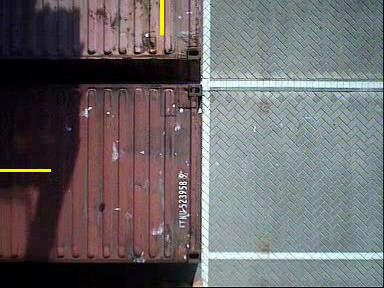groundmarker_2: (183, 153, 275, 258)
